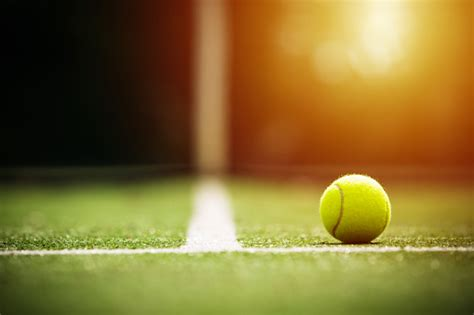tennis_ball: (320, 173, 391, 244)
